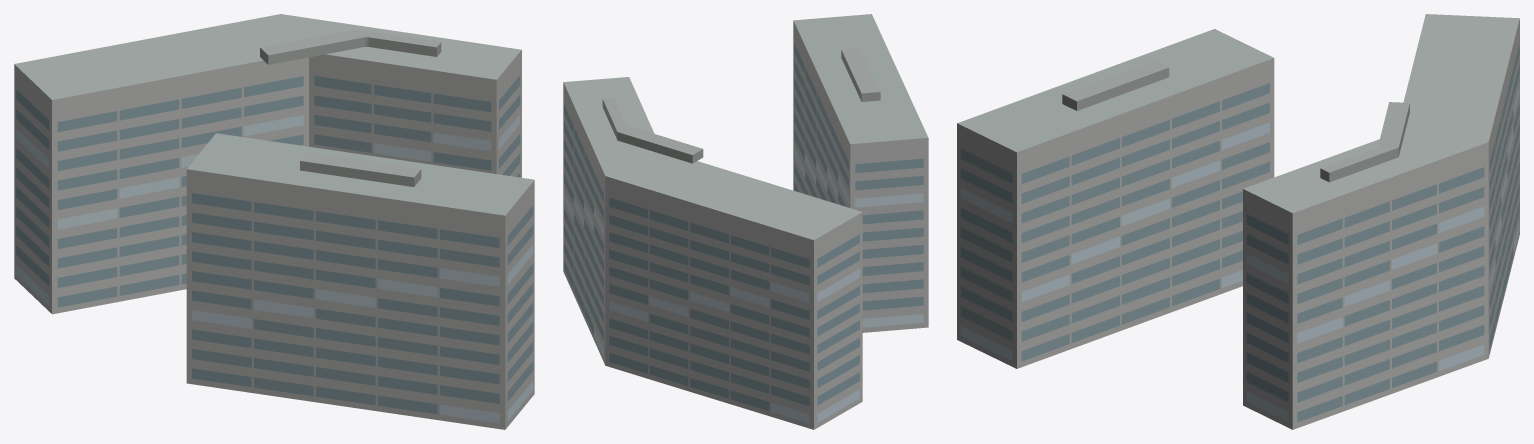
The model's file is apt-a13993001.glb.
3 renders of one model, left to right at view 1: azimuth 30°, elevation 25°; view 2: azimuth 150°, elevation 25°; view 3: azimuth 270°, elevation 25°, orthographic. The views are drawn at different scales.
Parts seen in each view (by area): view 1: apt-a13993001; view 2: apt-a13993001; view 3: apt-a13993001.
Part boxes in pixels (x1,y1,x2,y2): apt-a13993001: (14,14,534,429); apt-a13993001: (563,14,928,429); apt-a13993001: (957,14,1519,429).
Bounding box in the file's own units: 66.18 × 35.06 × 78.96.
